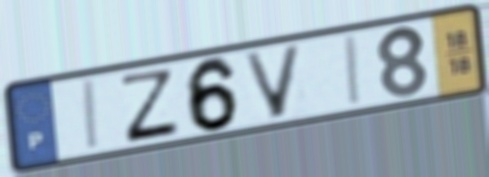6: (184, 53, 245, 134)
8: (374, 25, 431, 100)
I: (344, 31, 365, 109), (82, 76, 103, 153)
V: (240, 41, 307, 121)
Z: (118, 67, 183, 146)
